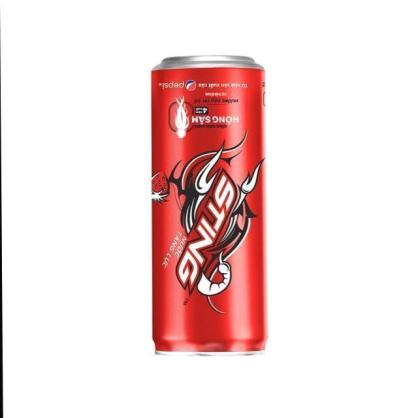can: (148, 53, 268, 360)
